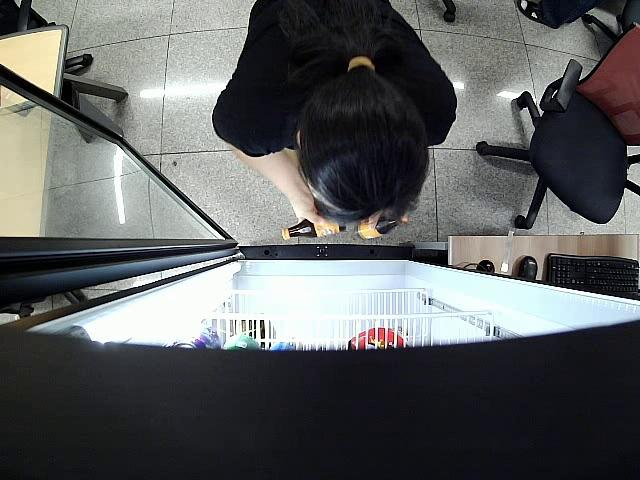00_hand: (289, 193, 328, 231)
17_vita500: (283, 219, 348, 241), (354, 213, 408, 239)
